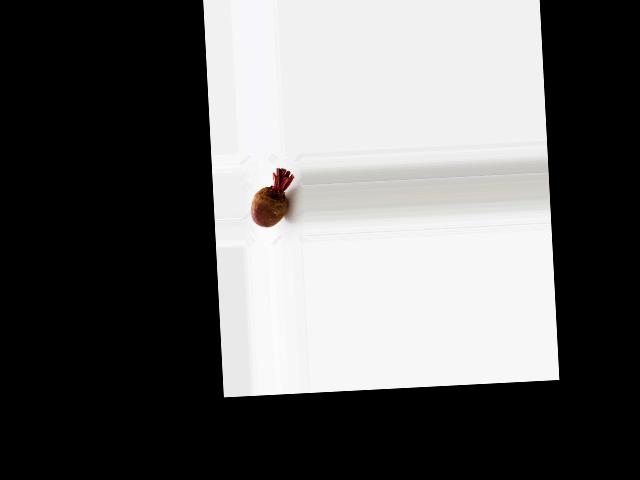beet: (248, 167, 297, 228)
